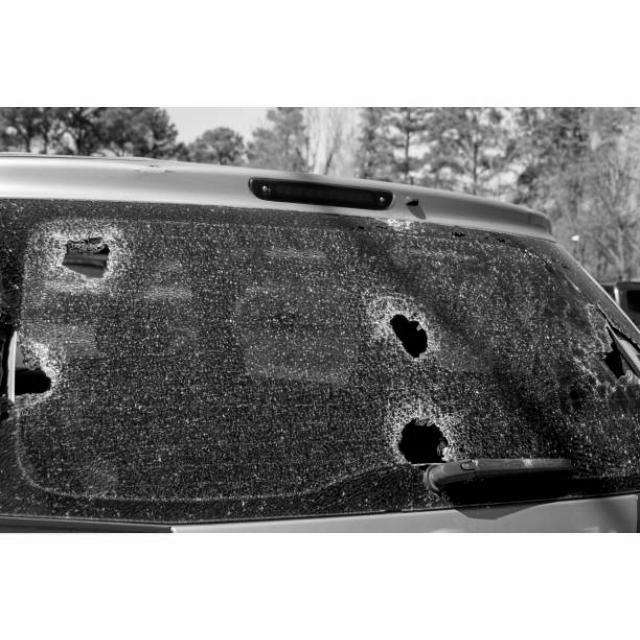Rear-windscreen-Damage: (0, 199, 640, 513)
